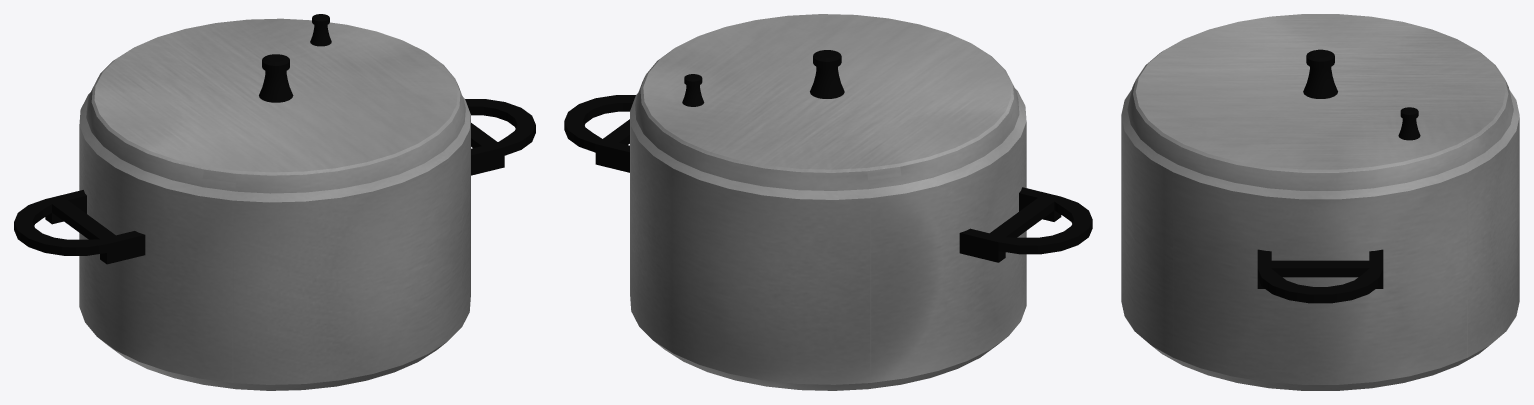
File: 6njra.FBX
3 renders of one model, left to right at view 1: azimuth 30°, elevation 25°; view 2: azimuth 150°, elevation 25°; view 3: azimuth 270°, elevation 25°, orthographic.
Visible parts, largest first — view 1: ChamferCyl006, Box061, Cylinder032; view 2: ChamferCyl006, Box061, Cylinder032; view 3: ChamferCyl006, Box061, Cylinder032.
Part boxes in pixels (bbox=[...]): ChamferCyl006: bbox=[79, 18, 470, 390]; Box061: bbox=[14, 99, 535, 264]; Cylinder032: bbox=[259, 14, 331, 102]; ChamferCyl006: bbox=[630, 14, 1026, 390]; Box061: bbox=[564, 95, 1092, 262]; Cylinder032: bbox=[682, 50, 844, 106]; ChamferCyl006: bbox=[1121, 14, 1519, 390]; Box061: bbox=[1257, 249, 1383, 303]; Cylinder032: bbox=[1303, 49, 1420, 140].
Size of the model in its own units: 980 by 474 by 661.
Materials: 2 (1 with a texture image).
